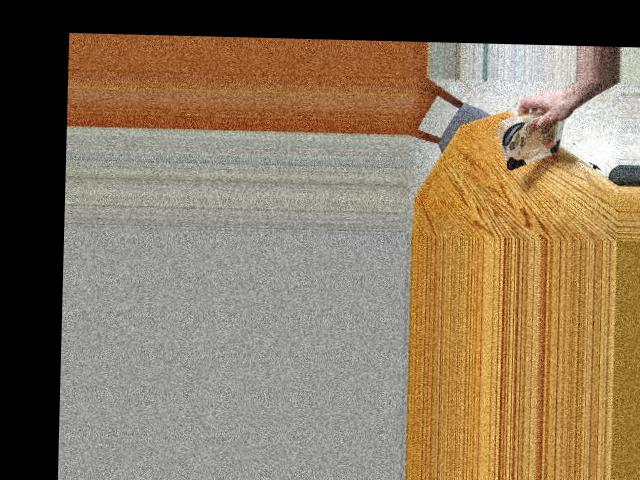cheese: (501, 114, 572, 166)
